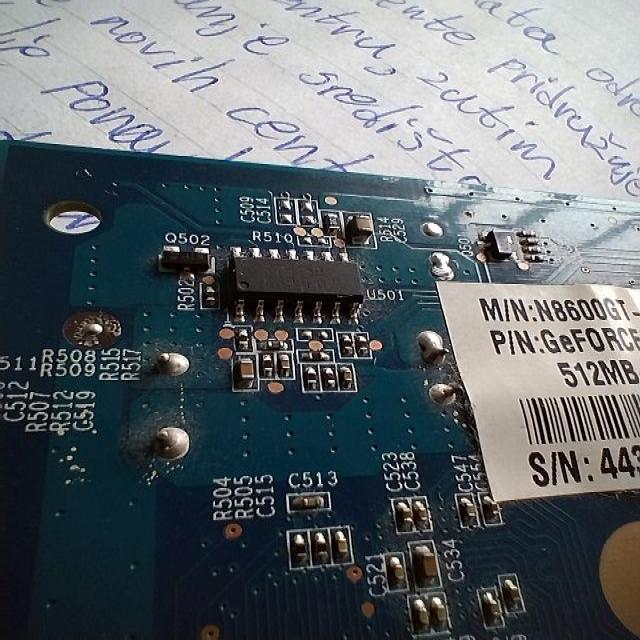capacitor: (451, 486, 483, 536), (232, 348, 260, 402), (289, 482, 334, 514)
resistor: (286, 526, 314, 576), (332, 522, 353, 572)
